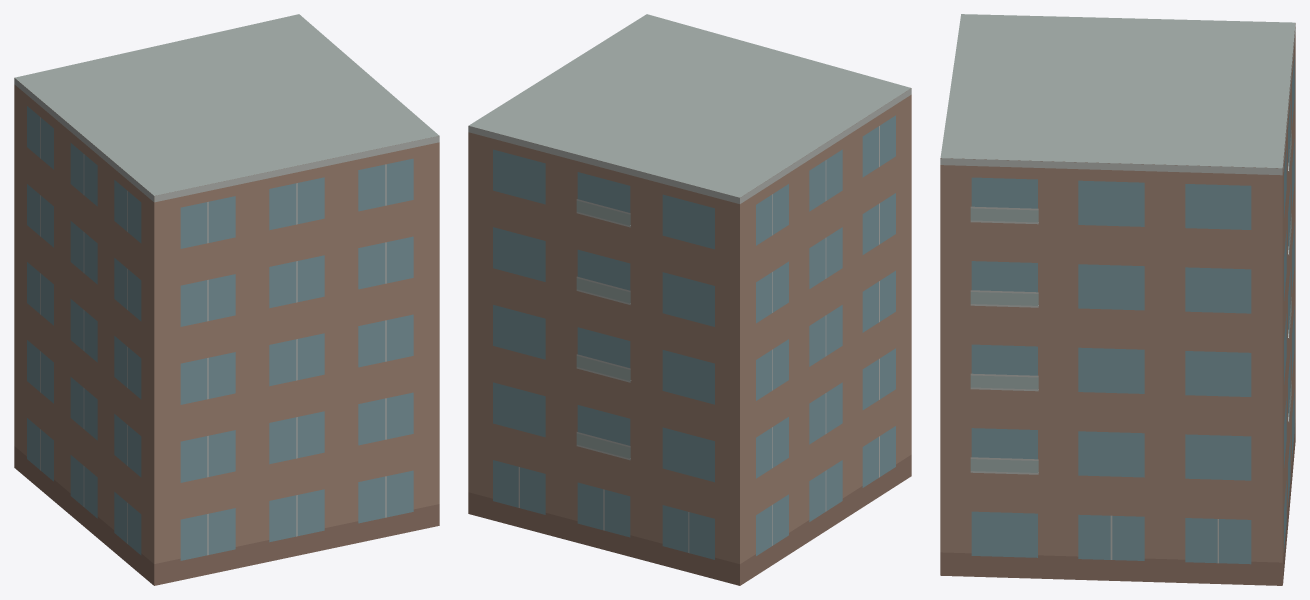
The model's file is survey-upis-32832783.glb.
3 renders of one model, left to right at view 1: azimuth 30°, elevation 25°; view 2: azimuth 150°, elevation 25°; view 3: azimuth 270°, elevation 25°, orthographic. The views are drawn at different scales.
Visible parts, largest first — view 1: survey-upis-32832783.tmp; view 2: survey-upis-32832783.tmp; view 3: survey-upis-32832783.tmp.
Part boxes in pixels (x1,y1,x2,y2): survey-upis-32832783.tmp: (14, 14, 439, 585); survey-upis-32832783.tmp: (468, 14, 911, 585); survey-upis-32832783.tmp: (940, 14, 1295, 585).
Size of the model in its own units: 11.57 by 14.6 by 11.26.
